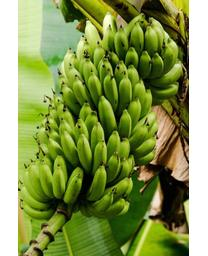banana: (19, 5, 182, 243)
